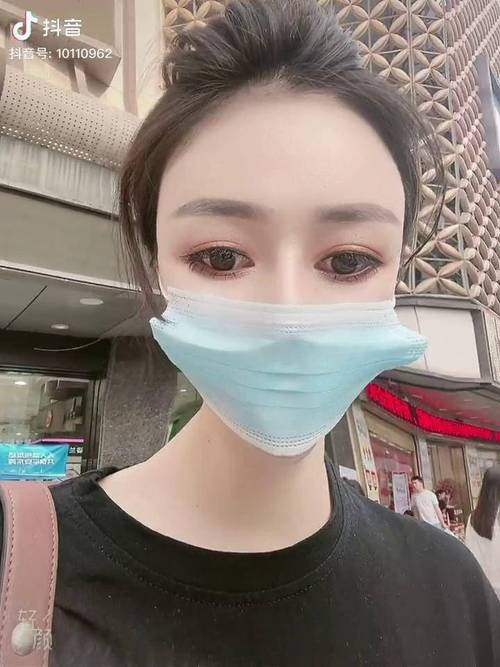mask: (152, 99, 424, 440)
